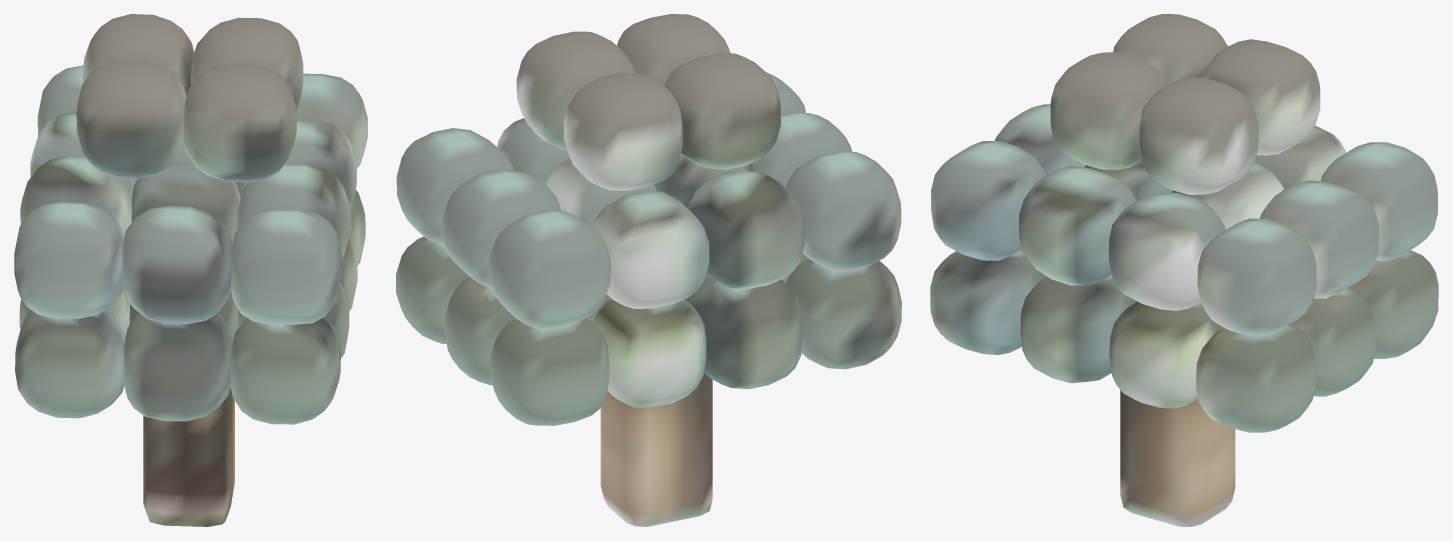
The model's file is cube-tree-0.glb.
The picture shows the model from 3 angles, left to right: view 1: azimuth 30°, elevation 25°; view 2: azimuth 150°, elevation 25°; view 3: azimuth 270°, elevation 25°; orthographic projection.
Visible parts, largest first — view 1: cube-tree-0; view 2: cube-tree-0; view 3: cube-tree-0.
Boxes of the visible parts, left/top/right/bottom form: cube-tree-0: left=14, top=14, right=367, bottom=526; cube-tree-0: left=396, top=14, right=901, bottom=526; cube-tree-0: left=930, top=14, right=1438, bottom=526.
Size of the model in its own units: 2.07 by 2.19 by 2.2.
